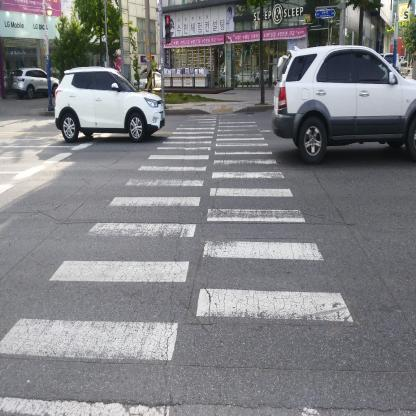Red: (164, 15, 171, 43)
